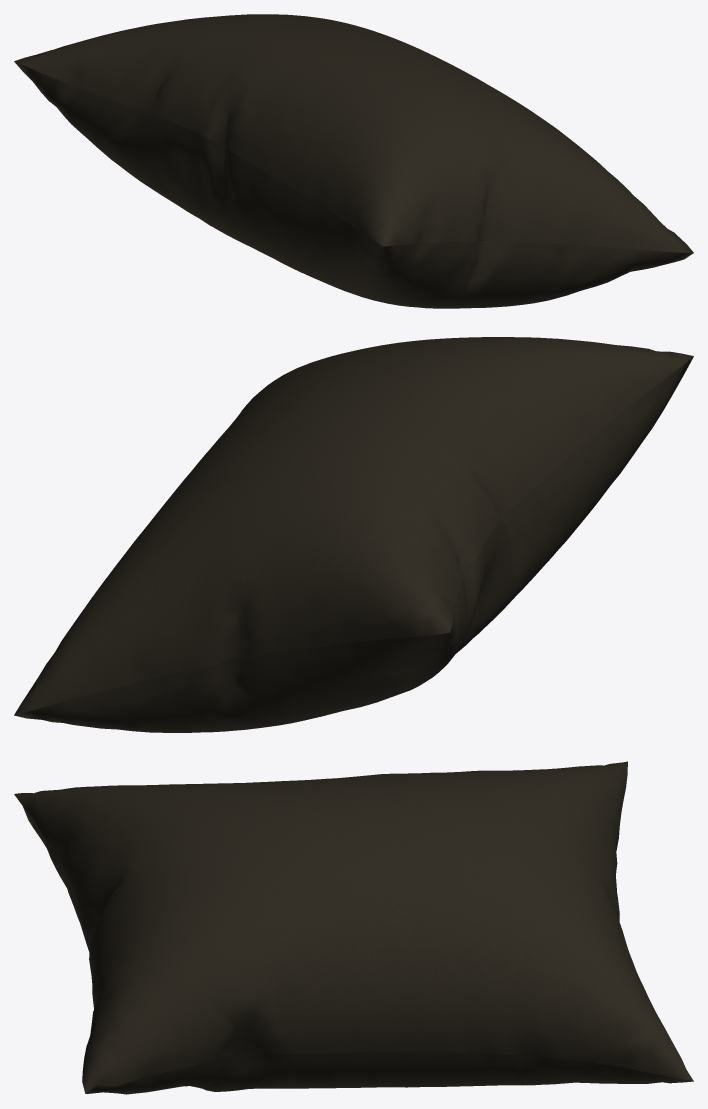
The model's file is SM_pillow2.FBX.
The picture shows the model from 3 angles, top to bottom: view 1: azimuth 30°, elevation 25°; view 2: azimuth 150°, elevation 25°; view 3: azimuth 270°, elevation 25°; orthographic projection. The views are drawn at different scales.
Visible parts, largest first — view 1: SM_pillow2; view 2: SM_pillow2; view 3: SM_pillow2.
Boxes of the visible parts, x1,y1,x2,y2 form: SM_pillow2: [14, 14, 693, 308]; SM_pillow2: [14, 337, 693, 732]; SM_pillow2: [14, 761, 693, 1094].
Bounding box in the file's own units: 184 × 241 × 95.36.
Materials: 1 (1 with a texture image).
